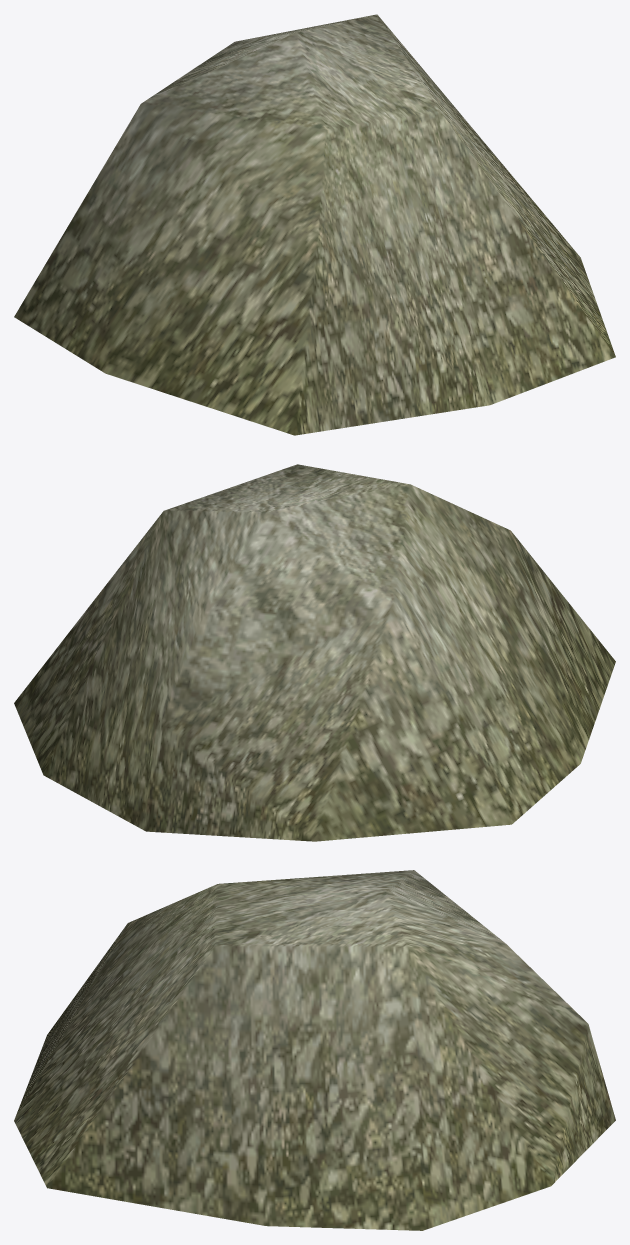
The model's file is elwynncliffrock02.obj.
The picture shows the model from 3 angles, top to bottom: view 1: azimuth 30°, elevation 25°; view 2: azimuth 150°, elevation 25°; view 3: azimuth 270°, elevation 25°; orthographic projection. The views are drawn at different scales.
Visible parts, largest first — view 1: elwynncliffrock02; view 2: elwynncliffrock02; view 3: elwynncliffrock02.
Boxes of the visible parts, x1=… form: elwynncliffrock02: x1=14, y1=14, x2=615, y2=435; elwynncliffrock02: x1=14, y1=464, x2=615, y2=841; elwynncliffrock02: x1=14, y1=870, x2=615, y2=1230.
Bounding box in the file's own units: 17.73 × 7.98 × 19.01.
1 material, 1 textured.
